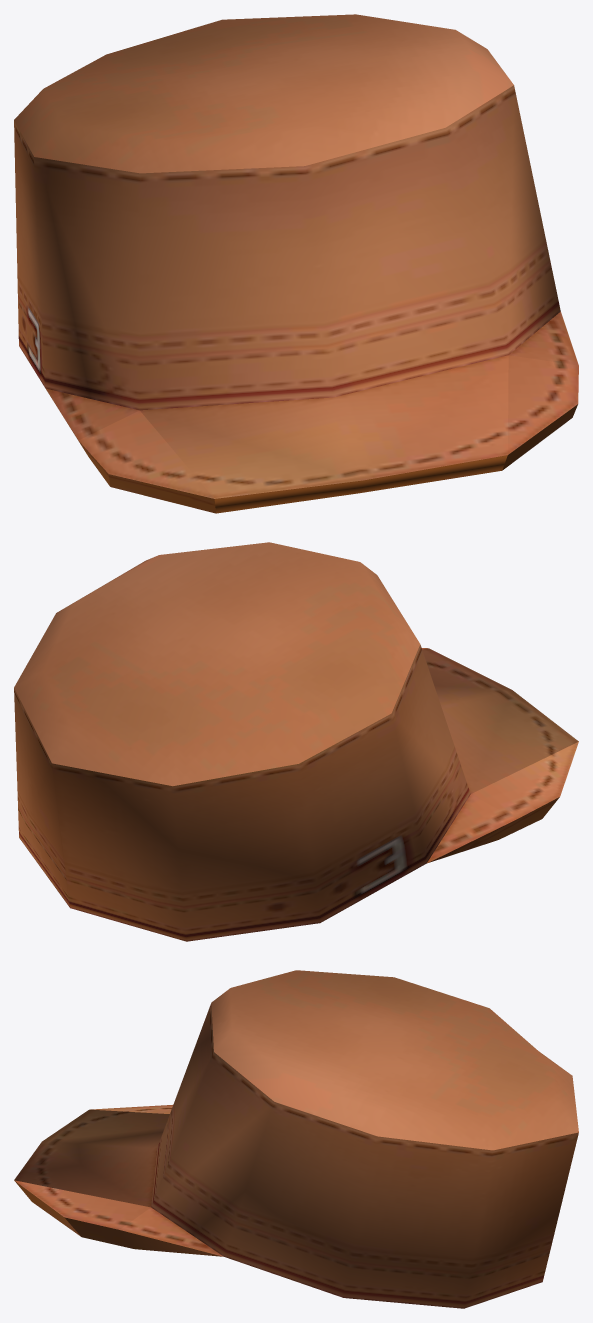
File: helm0069.fbx
3 views of the same model, one above another, from view 1: azimuth 30°, elevation 25°; view 2: azimuth 150°, elevation 25°; view 3: azimuth 270°, elevation 25° (orthographic). The views are drawn at different scales.
Parts seen in each view (by area): view 1: helm0069; view 2: helm0069; view 3: helm0069.
Part boxes in pixels (box(x1,y1,x2,y2)): helm0069: box(14, 14, 578, 513); helm0069: box(14, 542, 578, 941); helm0069: box(14, 970, 578, 1308).
Size of the model in its own units: 0.3025 by 0.1772 by 0.3779.
